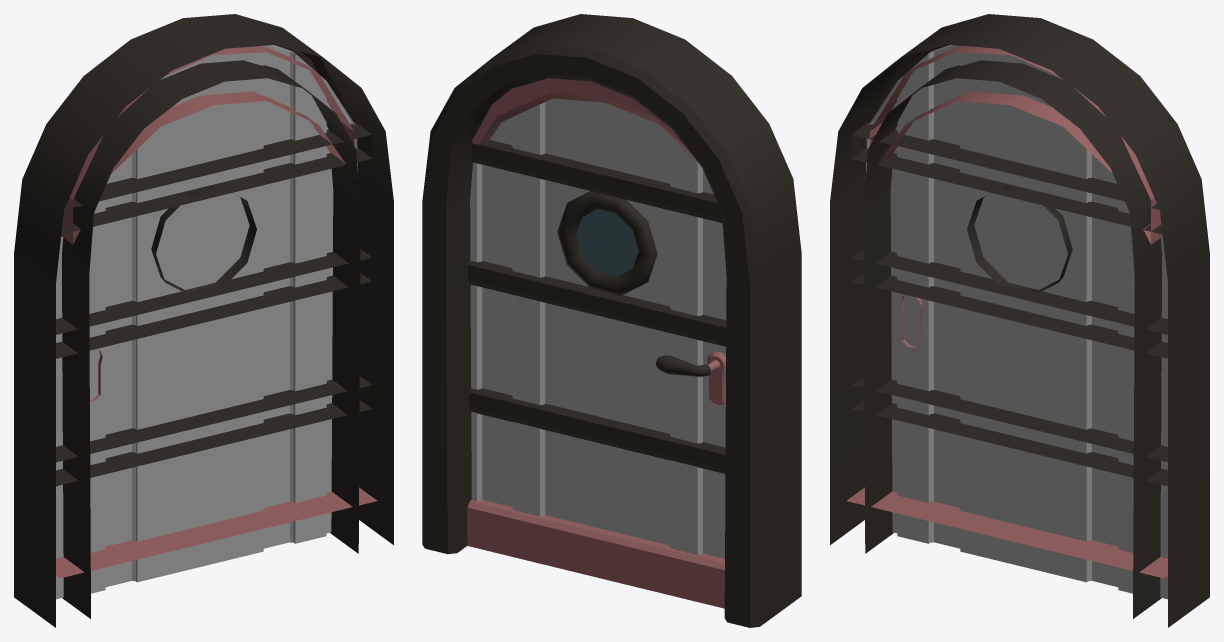
File: porte.fbx
3 views of the same model, side by side, from view 1: azimuth 30°, elevation 25°; view 2: azimuth 150°, elevation 25°; view 3: azimuth 330°, elevation 25° (orthographic).
Visible parts, largest first — view 1: polySurface3773, polySurface3771, polySurface3776, polySurface3775, polySurface3774, polySurface3778, polySurface3772, polySurface3779; view 2: polySurface3771, polySurface3773, polySurface3778, polySurface3779, polySurface3775, polySurface3776, polySurface3774, polySurface3772, polySurface3777; view 3: polySurface3773, polySurface3771, polySurface3776, polySurface3775, polySurface3774, polySurface3778, polySurface3772, polySurface3779.
Boxes of the visible parts, x1,y1,x2,y2 form: polySurface3773: [56, 45, 358, 599]; polySurface3771: [14, 14, 393, 627]; polySurface3776: [56, 376, 371, 486]; polySurface3775: [56, 249, 371, 358]; polySurface3774: [61, 122, 372, 234]; polySurface3778: [56, 487, 377, 578]; polySurface3772: [61, 46, 354, 244]; polySurface3779: [151, 186, 256, 294]; polySurface3771: [422, 14, 801, 627]; polySurface3773: [470, 98, 726, 558]; polySurface3778: [467, 500, 724, 608]; polySurface3779: [557, 191, 657, 295]; polySurface3775: [468, 260, 726, 346]; polySurface3776: [469, 388, 725, 473]; polySurface3774: [471, 140, 722, 223]; polySurface3772: [472, 78, 695, 159]; polySurface3777: [656, 351, 725, 405]; polySurface3773: [865, 45, 1167, 599]; polySurface3771: [830, 14, 1209, 627]; polySurface3776: [852, 376, 1167, 486]; polySurface3775: [852, 249, 1167, 358]; polySurface3774: [851, 122, 1162, 234]; polySurface3778: [846, 487, 1167, 578]; polySurface3772: [869, 46, 1162, 244]; polySurface3779: [967, 186, 1072, 294].
Size of the model in its own units: 2 by 3.04 by 0.4658.
